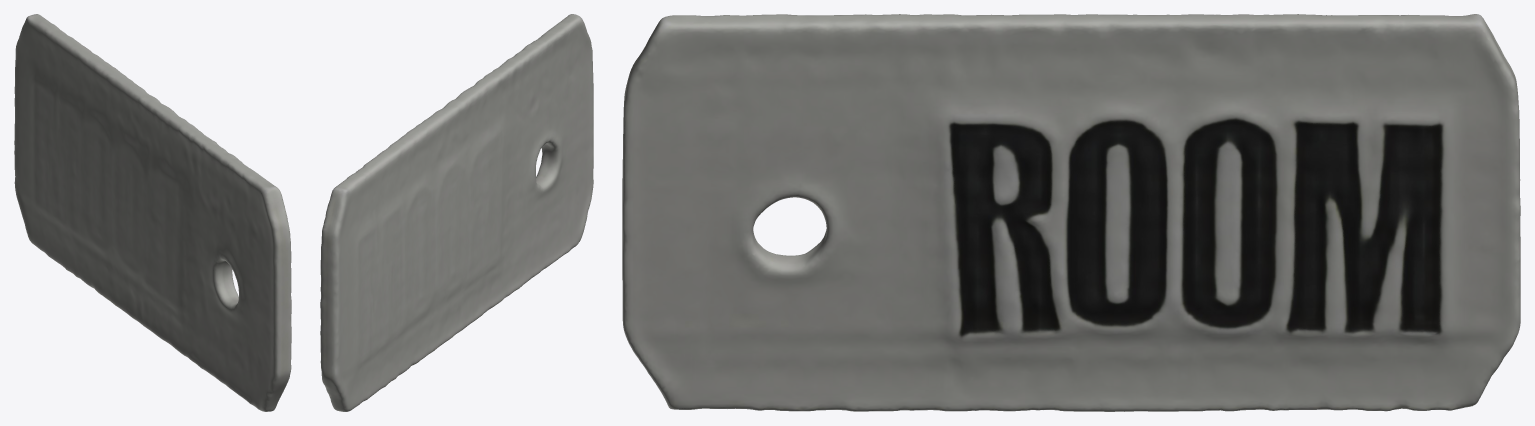
The model's file is 2b019ef55831_tag_with_text__The_.fbx.
3 renders of one model, left to right at view 1: azimuth 30°, elevation 25°; view 2: azimuth 150°, elevation 25°; view 3: azimuth 270°, elevation 25°, orthographic. The views are drawn at different scales.
Visible parts, largest first — view 1: high_poly; view 2: high_poly; view 3: high_poly.
Boxes of the visible parts, x1=… form: high_poly: x1=14, y1=14, x2=291, y2=411; high_poly: x1=320, y1=14, x2=593, y2=411; high_poly: x1=622, y1=14, x2=1520, y2=411.
Size of the model in its own units: 4.66 by 47.87 by 100.
